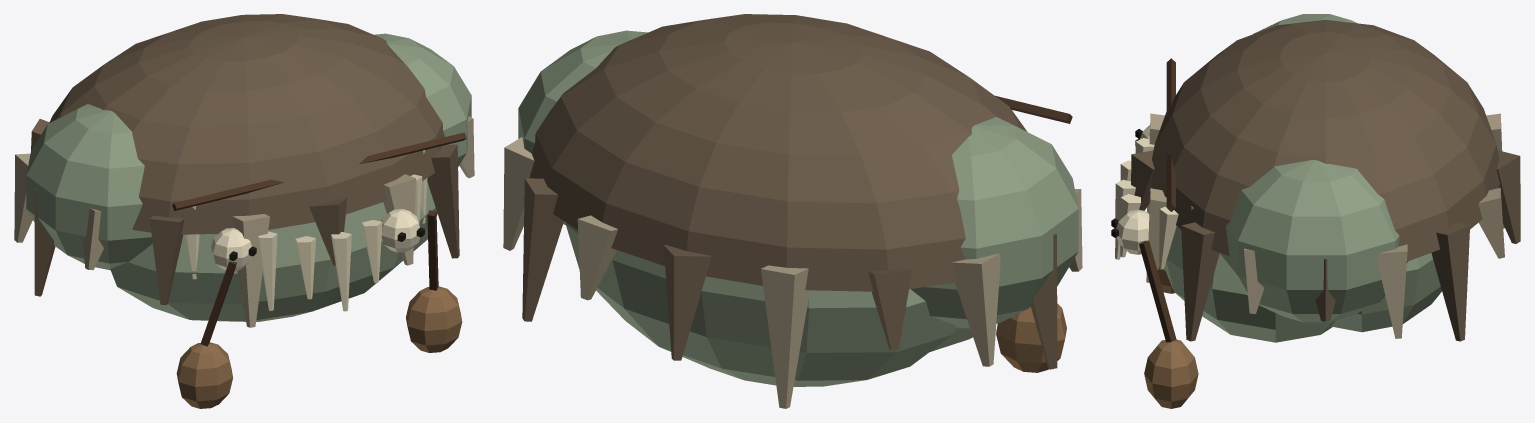
File: stonebrow_shaman_chest.glb
The picture shows the model from 3 angles, left to right: view 1: azimuth 30°, elevation 25°; view 2: azimuth 150°, elevation 25°; view 3: azimuth 270°, elevation 25°; orthographic projection. The views are drawn at different scales.
Parts seen in each view (by area): view 1: stonebrow_shaman_chest; view 2: stonebrow_shaman_chest; view 3: stonebrow_shaman_chest.
Part boxes in pixels (x1,y1,x2,y2): stonebrow_shaman_chest: (14,14,474,408); stonebrow_shaman_chest: (503,14,1082,408); stonebrow_shaman_chest: (1111,14,1520,408).
Size of the model in its own units: 1.1 by 0.72 by 0.9022.
